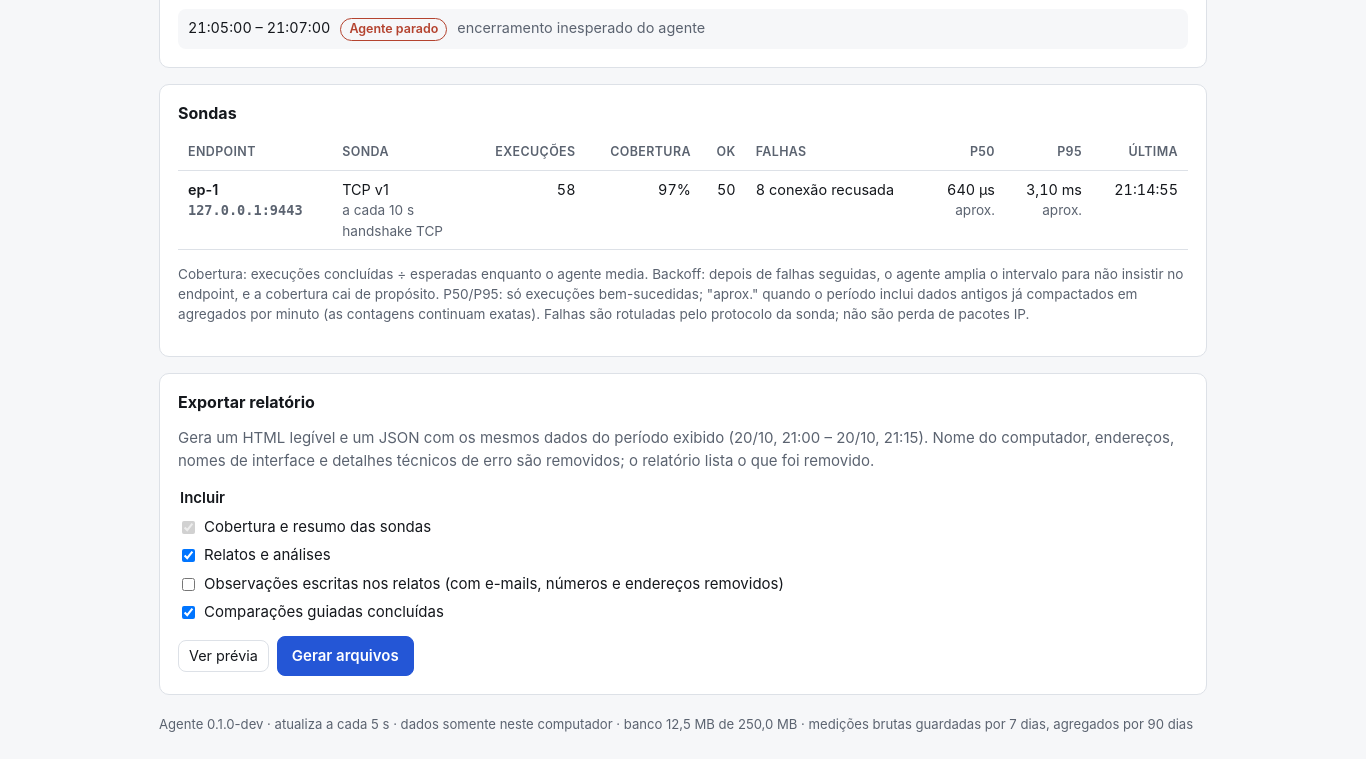
Test: exportar: opções enviadas, prévia isolada e links de download com hash
(page scrolled)
expect the heading "Exportar relatório" is shown: met, box [178, 392, 315, 412]
expect the checkbox labelled "Observações escritas" is not checked: met, box [182, 578, 195, 591]
Click the checkbox labelled "Relatos e análises" at (188, 556), box [182, 549, 195, 562]
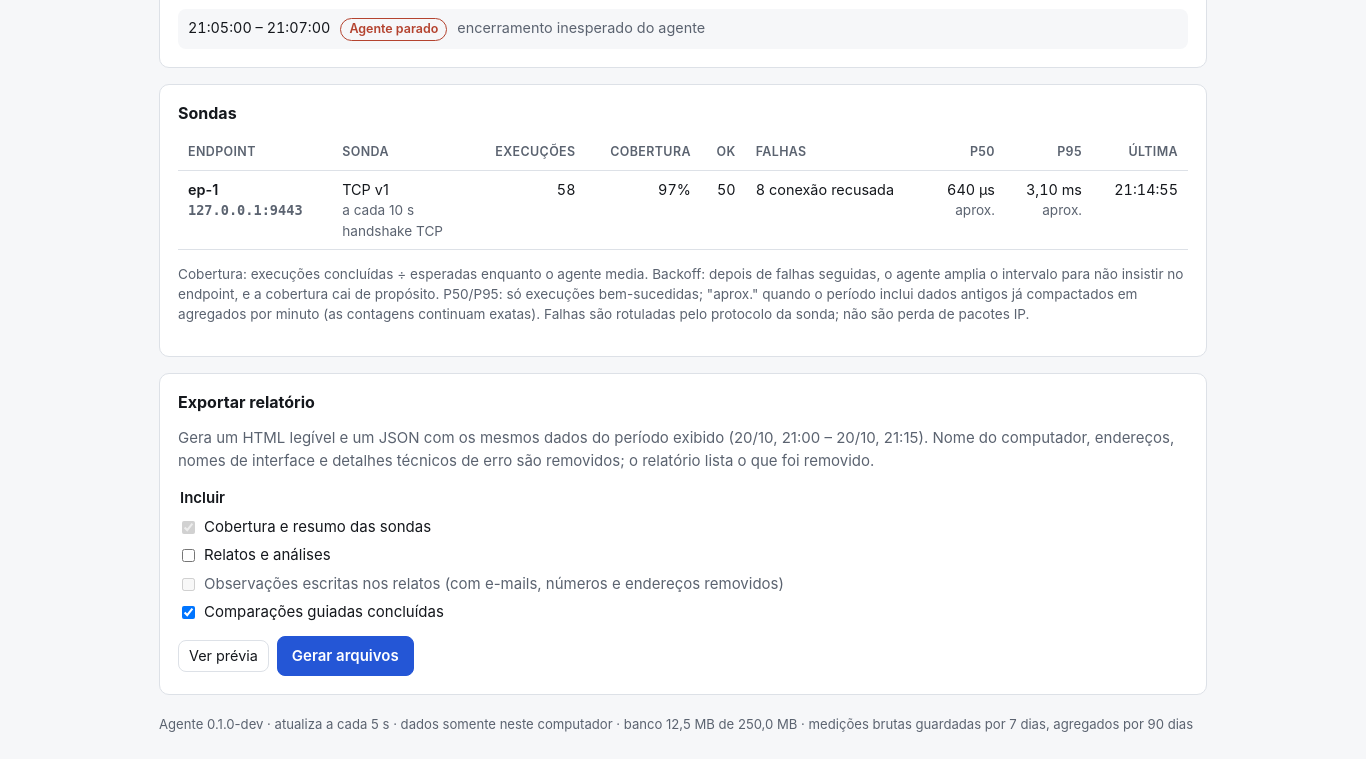
expect the checkbox labelled "Observações escritas" is disabled: met, box [182, 578, 195, 591]
Click the checkbox labelled "Relatos e análises" at (188, 556), box [182, 549, 195, 562]
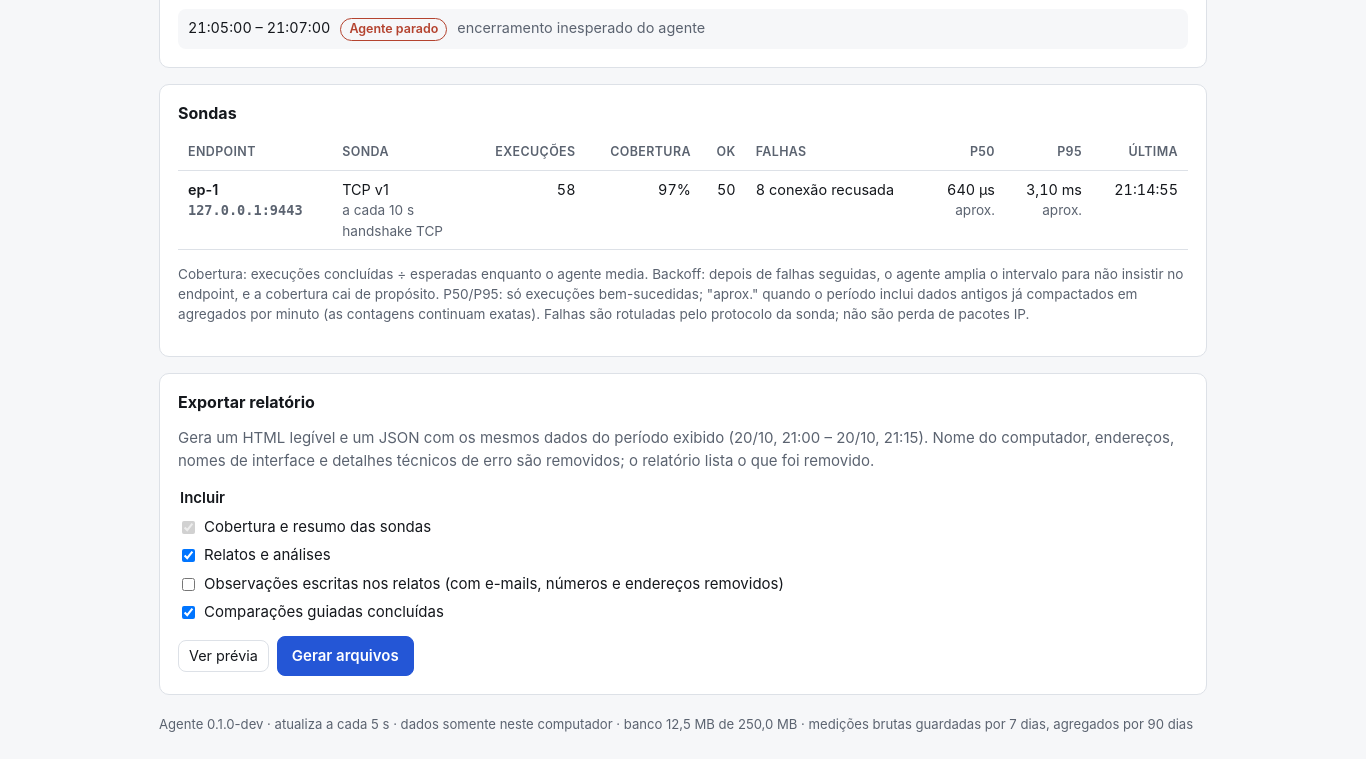
Click the checkbox labelled "Observações escritas" at (188, 584), box [182, 578, 195, 591]
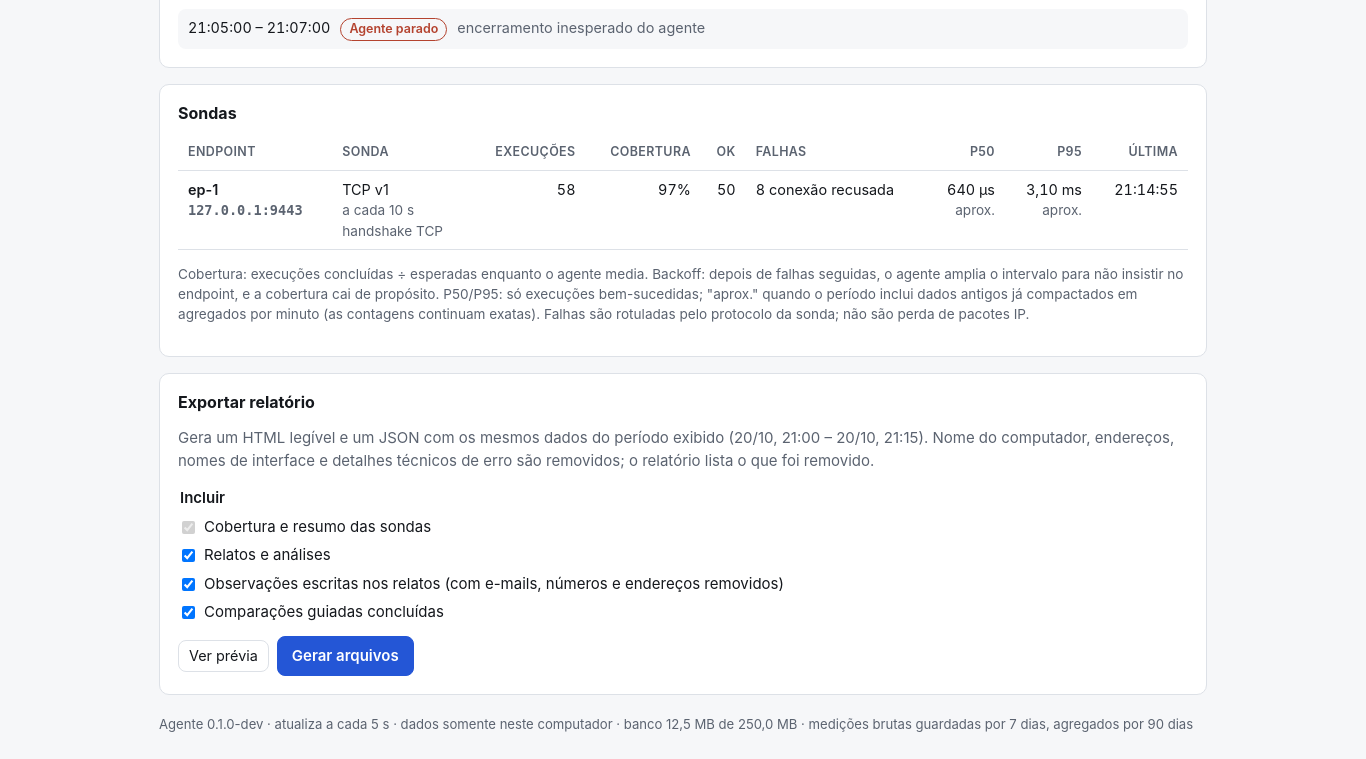
Click the button "Ver prévia" at (223, 656), box [178, 640, 269, 672]
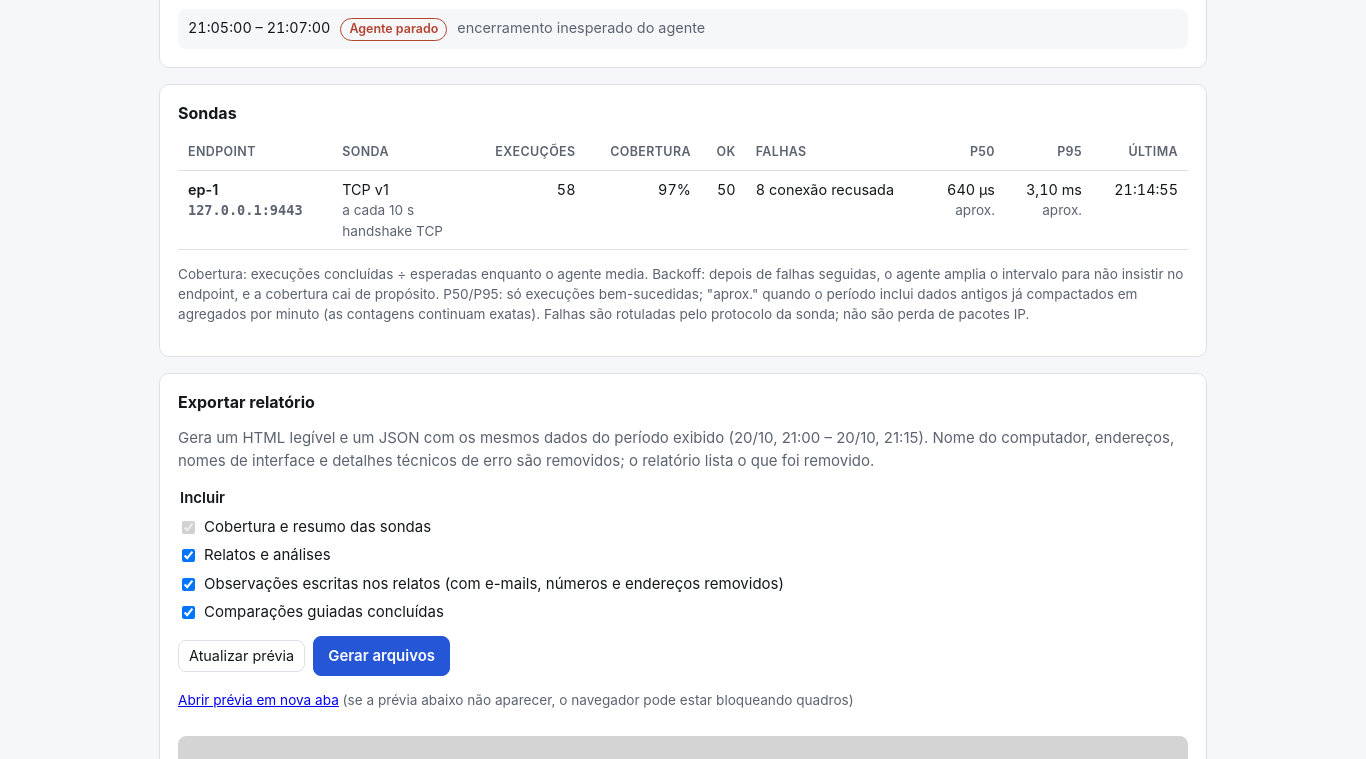
Click the button "Gerar arquivos" at (382, 656), box [313, 636, 450, 676]
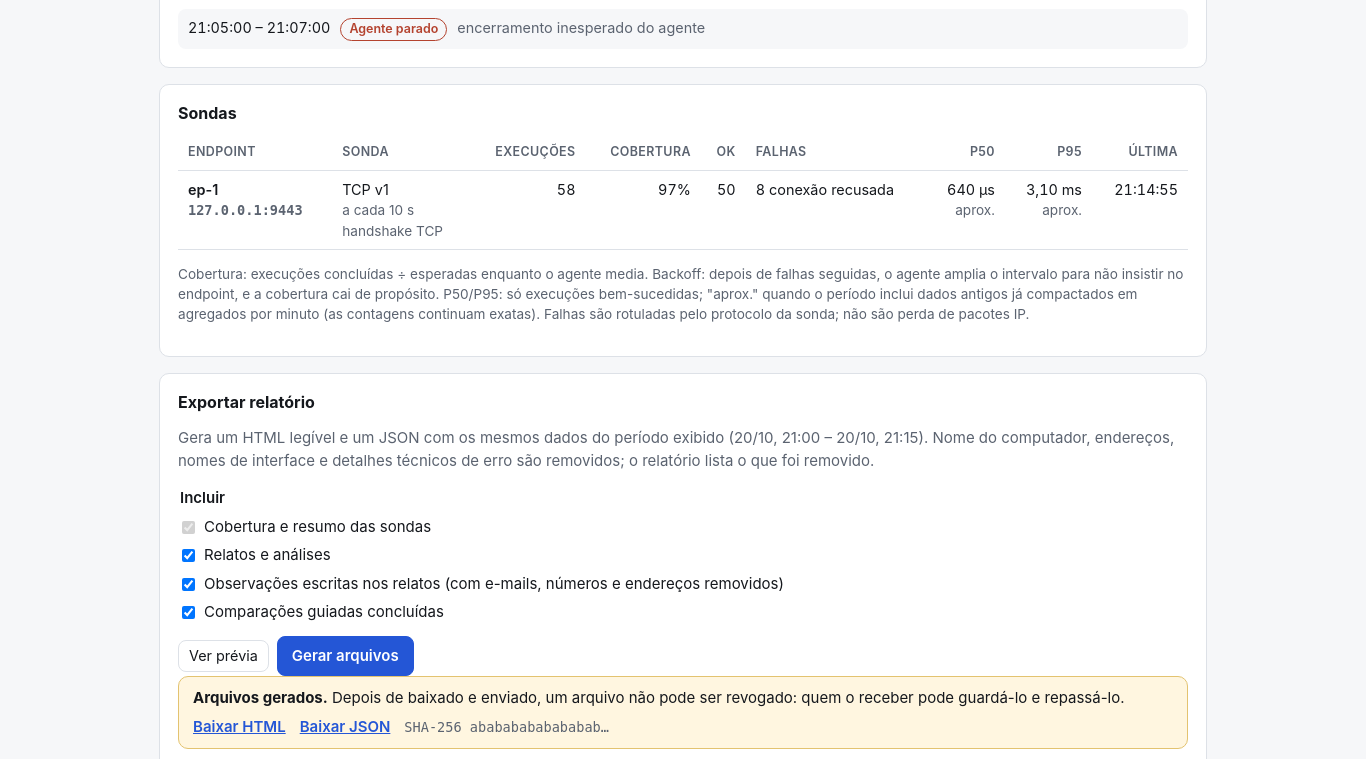
expect the text "Arquivos gerados." is shown: met, box [193, 688, 328, 707]
expect the text "não pode ser revogado" is shown: met, box [328, 688, 1125, 707]
